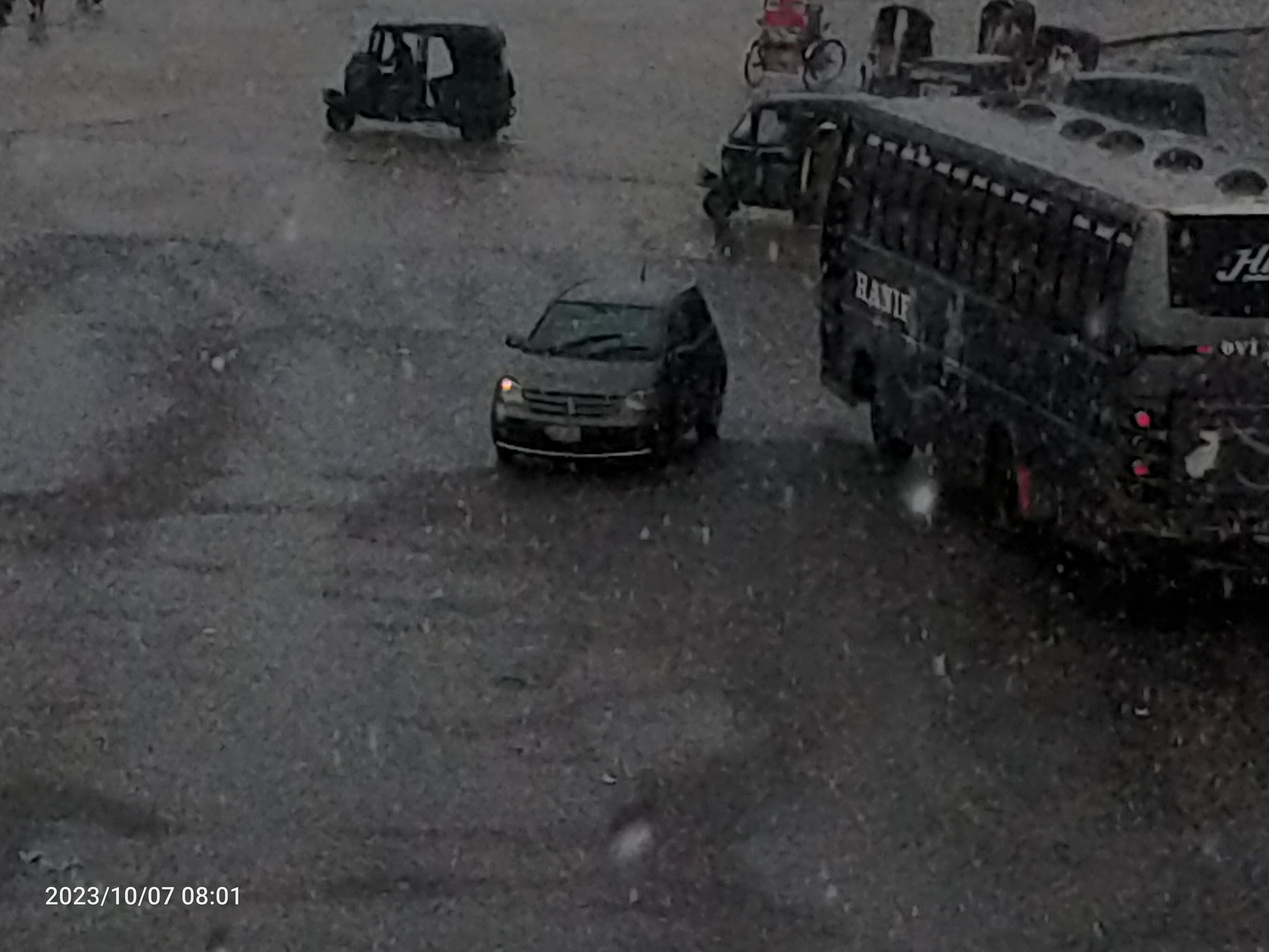Bus: (795, 84, 1269, 566)
Car: (462, 249, 746, 500), (736, 3, 851, 98), (864, 4, 944, 72), (970, 4, 1036, 60)
